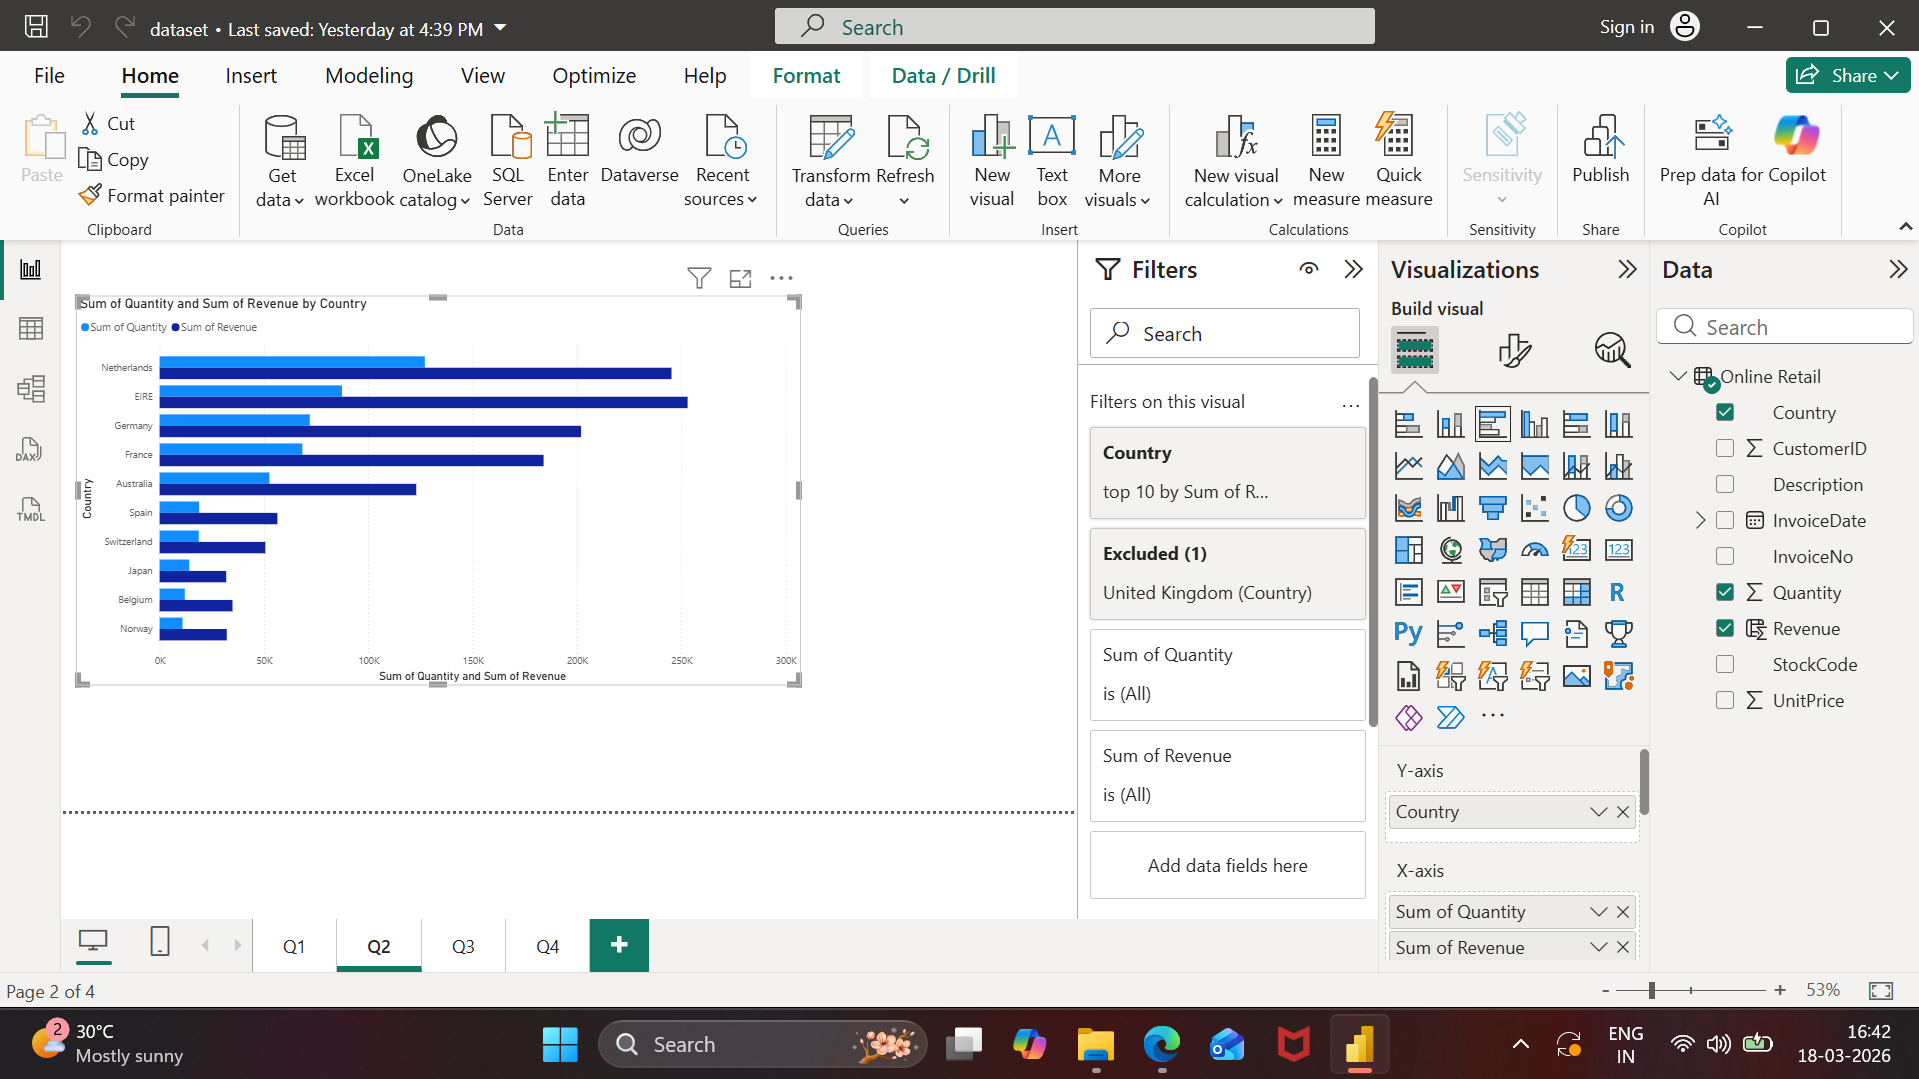

The page's visual inventory and layout, read from the dashboard file:
{"tool":"powerbi","page":{"name":"Q2","canvas":[1280,720],"ordinal":1},"visuals":[{"type":"clusteredBarChart","fields":{"Category":["Online Retail.Country"],"Y":["Sum(Online Retail.Quantity)","Sum(Online Retail.Revenue)"]},"box":[18.9,69.9,912.8,491.3],"z":0}]}

Visuals, with their boxes on the page's 1280x720 design canvas (x1, y1, x2, y2). These are canvas units, not pixel positions in the 1919x1079 screenshot, which may show the page scaled, cropped or inside an application window:
clusteredBarChart - Online Retail.Country x Sum(Online Retail.Quantity): left=19, top=70, right=932, bottom=561
